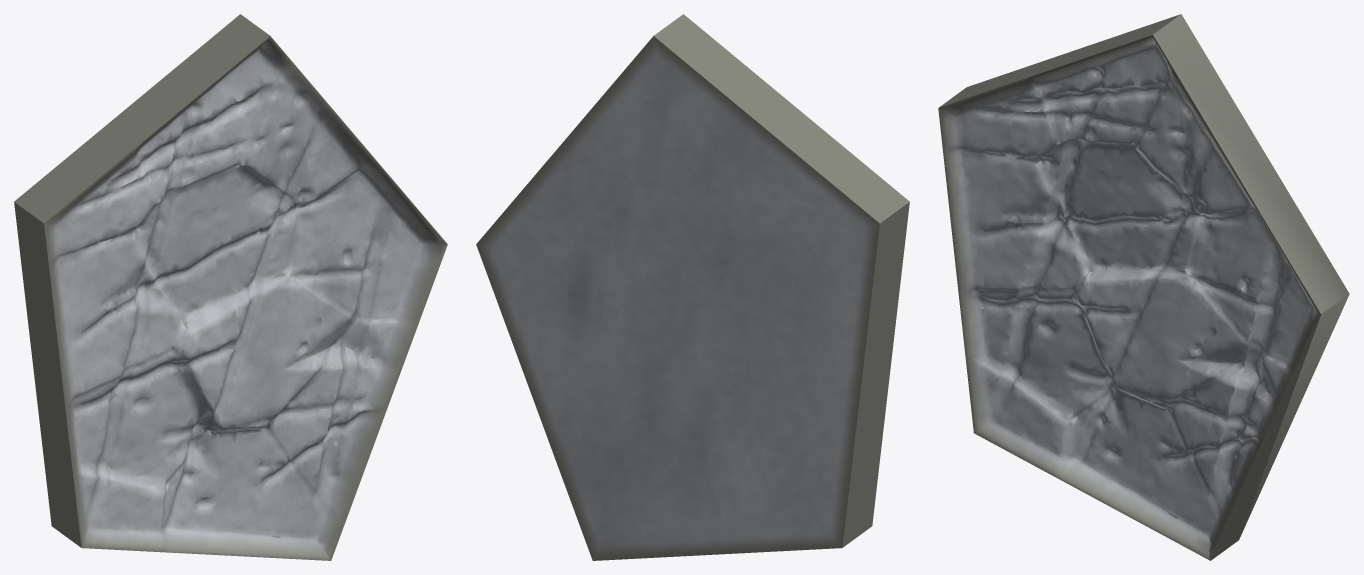
Rendered from first-wall-section.glb.
3 views of the same model, side by side, from view 1: azimuth 30°, elevation 25°; view 2: azimuth 150°, elevation 25°; view 3: azimuth 330°, elevation 25° (orthographic). The views are drawn at different scales.
Parts seen in each view (by area): view 1: Wall_LOD0; view 2: Wall_LOD0; view 3: Wall_LOD0.
Boxes of the visible parts, bbox=[...] form: Wall_LOD0: bbox=[14, 14, 447, 560]; Wall_LOD0: bbox=[476, 14, 909, 560]; Wall_LOD0: bbox=[938, 14, 1349, 560].
Size of what is drawn, in the model's own units: 15.57 by 19.89 by 2.
1 material, 1 textured.
